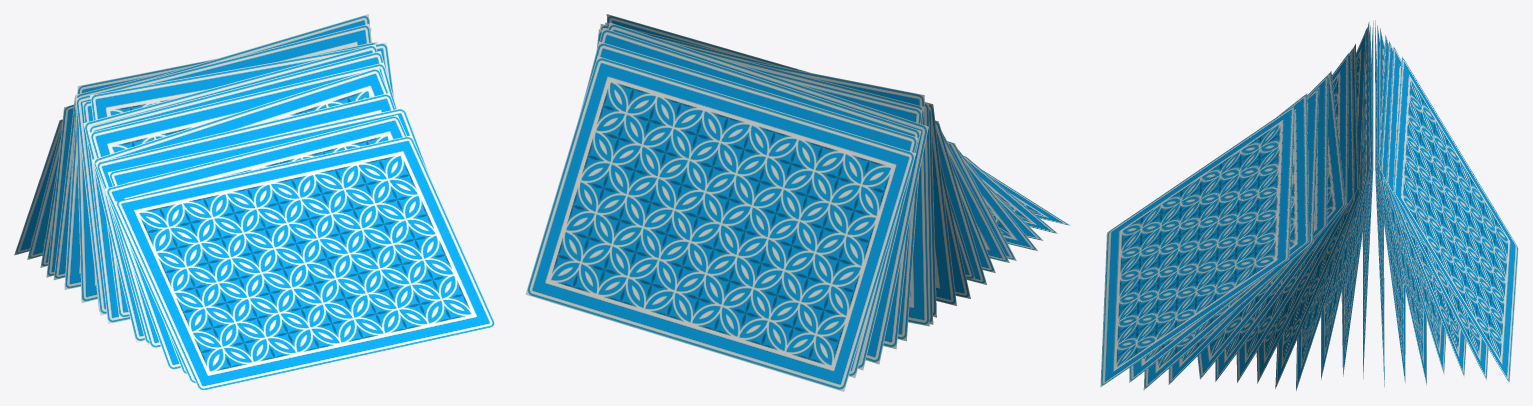
3 renders of one model, left to right at view 1: azimuth 30°, elevation 25°; view 2: azimuth 150°, elevation 25°; view 3: azimuth 270°, elevation 25°, orthographic. The views are drawn at different scales.
Parts seen in each view (by area): view 1: Cards; view 2: Cards; view 3: Cards.
Part boxes in pixels (x1=…): Cards: x1=14, y1=14, x2=496, y2=391; Cards: x1=525, y1=14, x2=1070, y2=391; Cards: x1=1100, y1=20, x2=1518, y2=390.
Bounding box in the file's own units: 1.59 × 1.09 × 1.76.
1 material, 1 textured.
